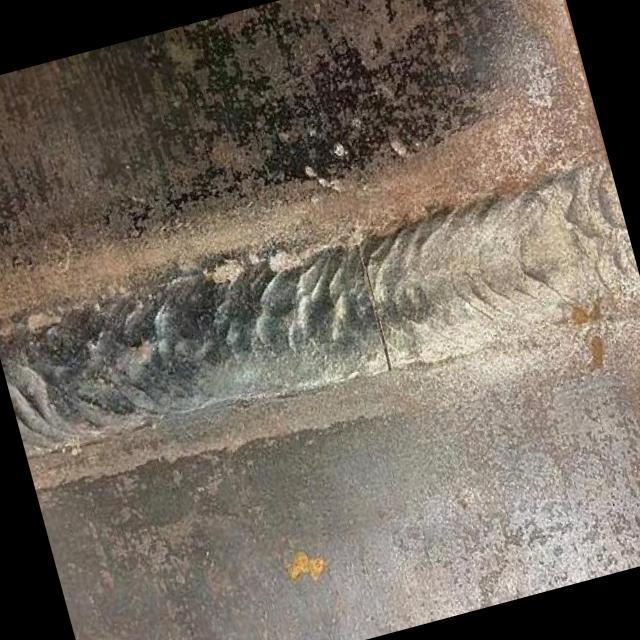defect: (352, 242, 392, 378)
